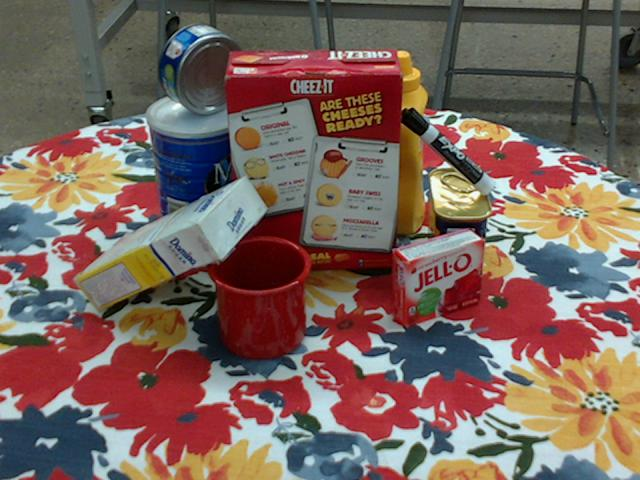cracker_box: (223, 51, 404, 270)
gelatin_box: (391, 228, 485, 327)
large_marker: (400, 108, 496, 195)
master_chef_can: (148, 91, 250, 252)
mug: (206, 234, 312, 359)
mustard_bottle: (373, 52, 428, 235)
potted_meat_can: (427, 168, 492, 287)
sugar_box: (71, 177, 267, 312)
tomato_soup_can: (295, 105, 355, 210)
tuna_fish_can: (158, 23, 244, 114)
